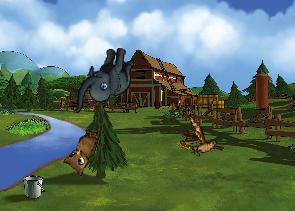eagle: (173, 113, 231, 166)
elephant: (72, 43, 135, 118)
owl: (60, 124, 100, 177)
